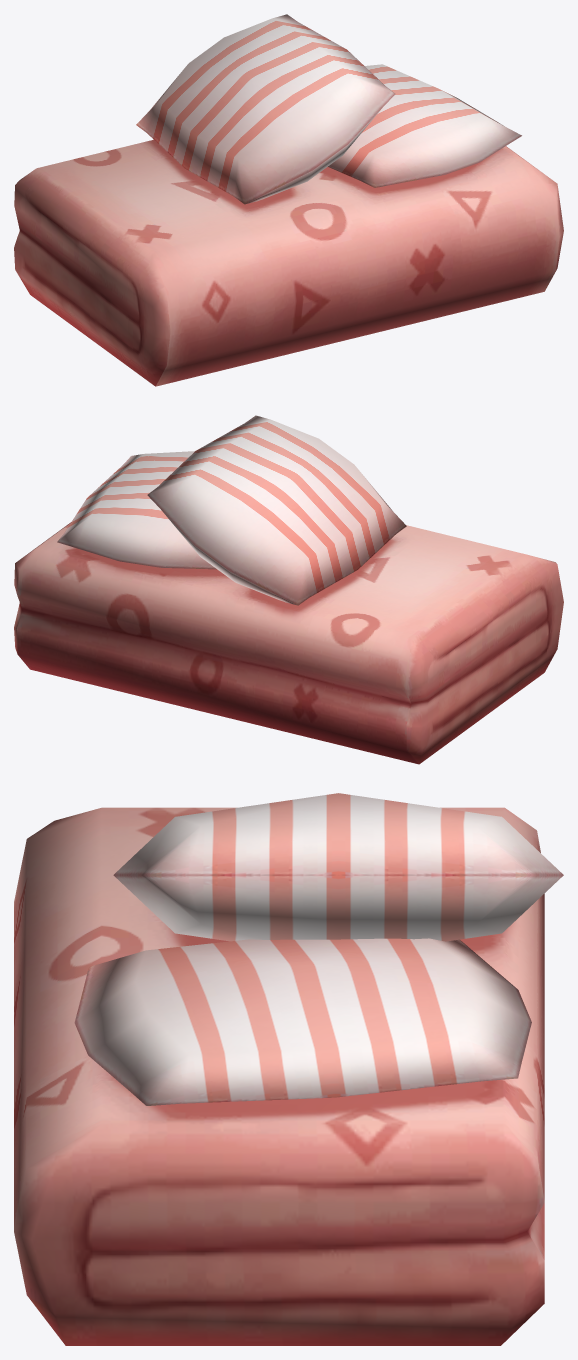
Rendered from my_gamedevdept_01_bedding_01.glb.
The picture shows the model from 3 angles, top to bottom: view 1: azimuth 30°, elevation 25°; view 2: azimuth 150°, elevation 25°; view 3: azimuth 270°, elevation 25°; orthographic projection. The views are drawn at different scales.
Parts seen in each view (by area): view 1: my_gamedevdept_01_bedding_01; view 2: my_gamedevdept_01_bedding_01; view 3: my_gamedevdept_01_bedding_01.
Part boxes in pixels (x1=…): my_gamedevdept_01_bedding_01: x1=14, y1=14, x2=563, y2=386; my_gamedevdept_01_bedding_01: x1=14, y1=415, x2=563, y2=764; my_gamedevdept_01_bedding_01: x1=14, y1=793, x2=563, y2=1345.
Bounding box in the file's own units: 0.00579 × 0.00307 × 0.00389.
1 material, 1 textured.
